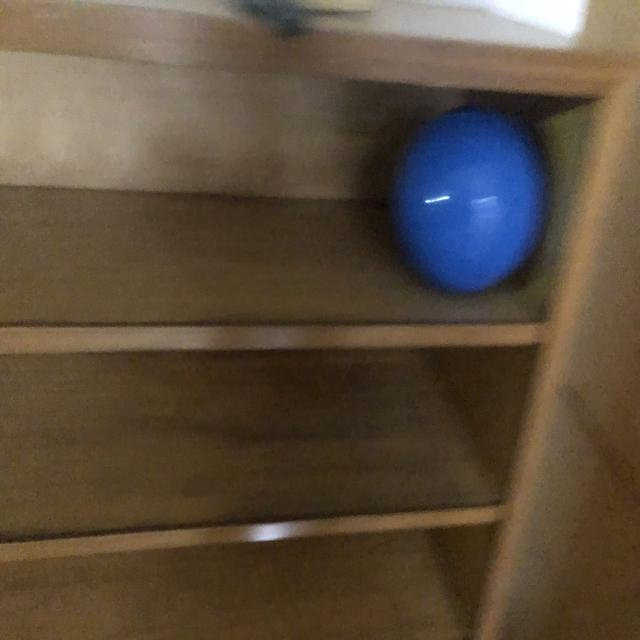blue_ball: (395, 104, 553, 302)
